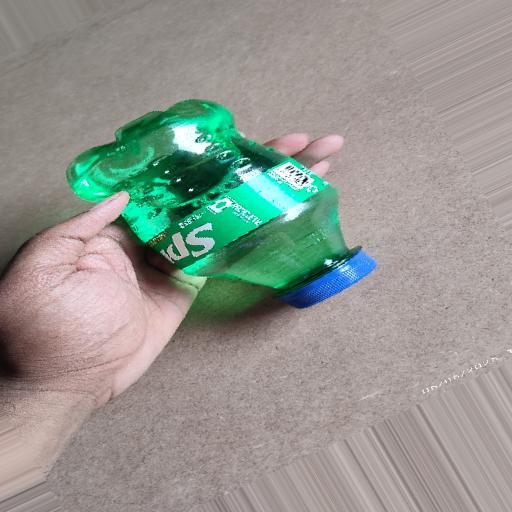Sprite: (49, 92, 385, 344)
